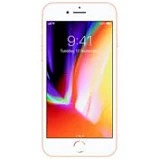iphone: (39, 1, 119, 158)
iphone8: (38, 1, 118, 158)
